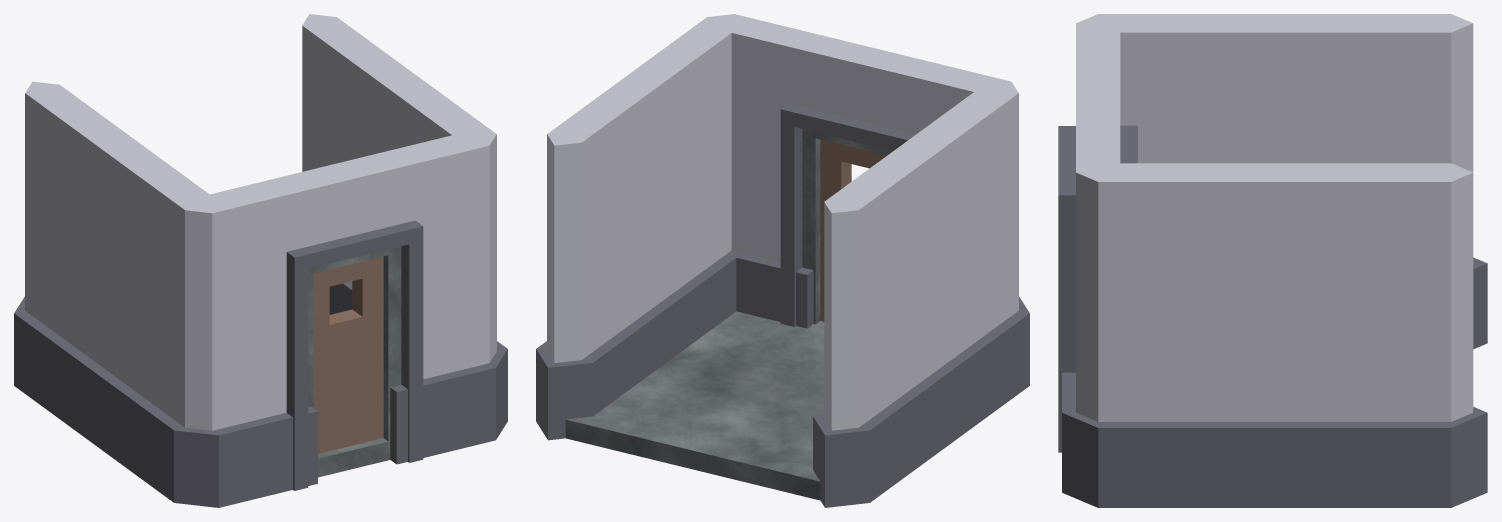
File: sm_hallway_end_04.fbx
The picture shows the model from 3 angles, left to right: view 1: azimuth 30°, elevation 25°; view 2: azimuth 150°, elevation 25°; view 3: azimuth 270°, elevation 25°; orthographic projection. The views are drawn at different scales.
Visible parts, largest first — view 1: door_02_184, wall_01_172, wall_01_176, floor_square_169; view 2: wall_01_172, wall_01_176, door_02_184, floor_square_169; view 3: wall_01_176, wall_01_172, door_02_184.
Boxes of the visible parts, box(x1,y1,x2,y2) form: door_02_184: box(174, 133, 507, 507); wall_01_172: box(14, 81, 219, 507); wall_01_176: box(302, 14, 507, 367); floor_square_169: box(318, 438, 388, 463); wall_01_172: box(813, 84, 1029, 507); wall_01_176: box(536, 14, 742, 440); door_02_184: box(707, 14, 1018, 328); floor_square_169: box(565, 311, 824, 500); wall_01_176: box(1062, 163, 1487, 507); wall_01_172: box(1076, 14, 1487, 349); door_02_184: box(1058, 14, 1137, 507).
Size of the model in its own units: 12.05 by 10 by 12.15.
